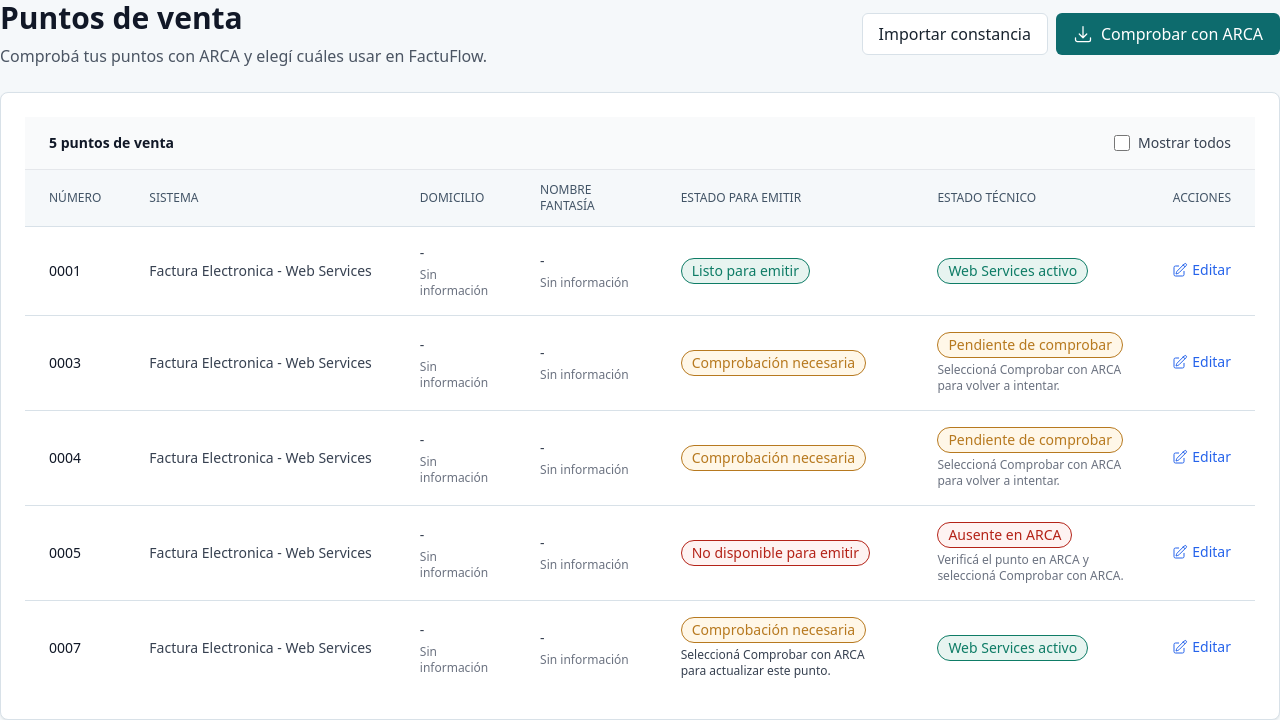
Test case: PuntosVentaView › muestra autoridad WSFE y filtra por uso compartido
Expected: the label "Mostrar todos" is shown, [1114, 133, 1231, 153]
Click the checkbox labelled "Mostrar todos".
click(1122, 143)  # box [1114, 135, 1130, 151]
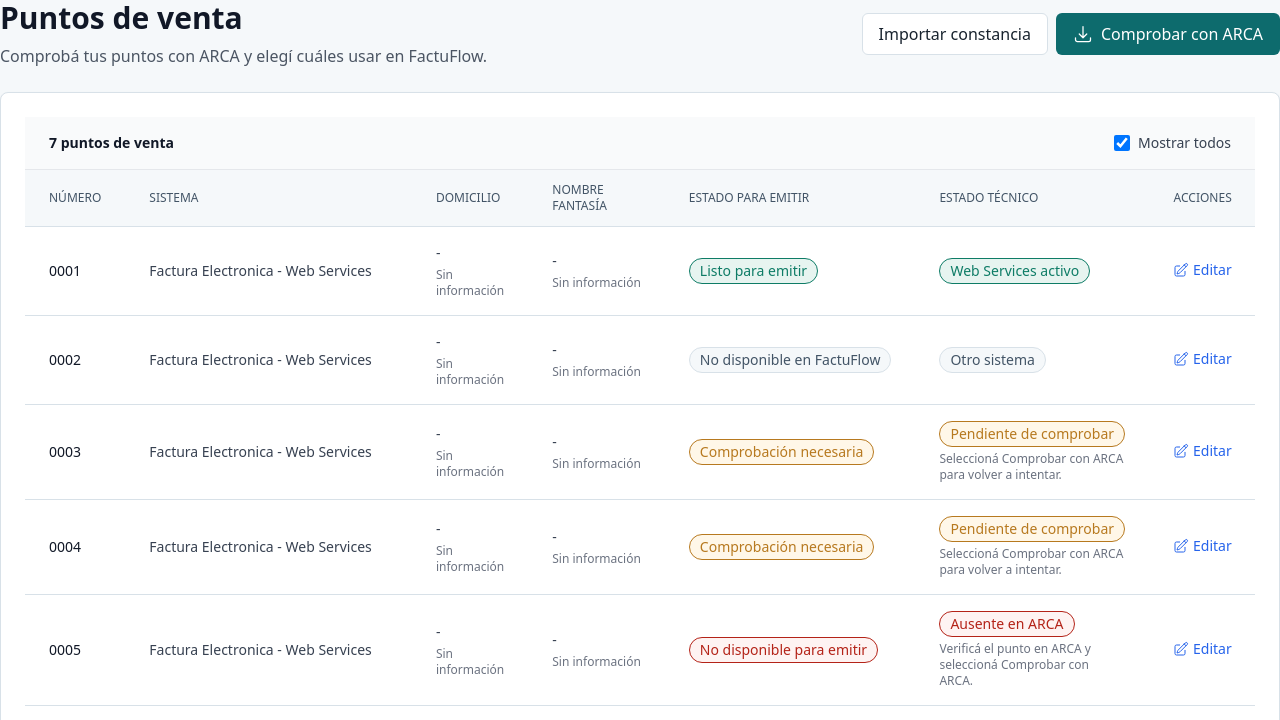
Result: the text "0002" is shown at [49, 350, 81, 369]
Result: the text "No disponible en FactuFlow" is shown at [689, 347, 891, 373]
Result: the text "Otro sistema" is shown at [939, 347, 1046, 373]
